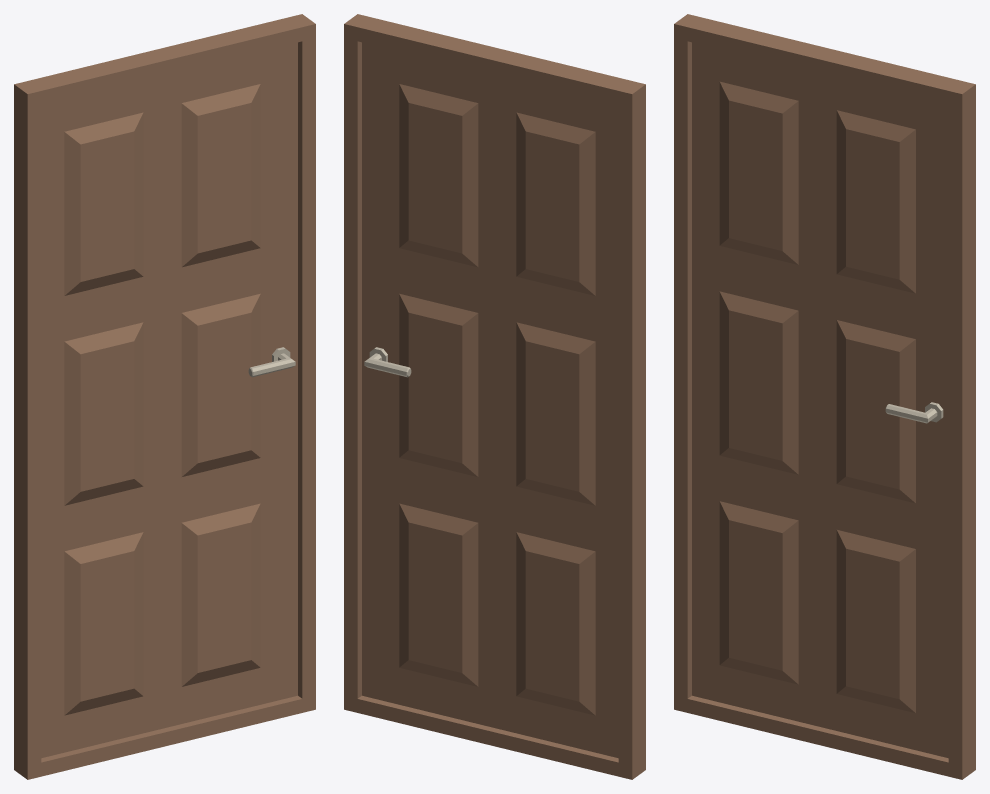
File: Mesh_Door_A05.fbx
3 views of the same model, side by side, from view 1: azimuth 30°, elevation 25°; view 2: azimuth 150°, elevation 25°; view 3: azimuth 330°, elevation 25° (orthographic).
Parts seen in each view (by area): view 1: Mesh_Door_A05; view 2: Mesh_Door_A05; view 3: Mesh_Door_A05.
Part boxes in pixels (box(x1,y1,x2,y2)): Mesh_Door_A05: box(14, 14, 315, 779); Mesh_Door_A05: box(344, 14, 645, 779); Mesh_Door_A05: box(674, 14, 975, 779).
Bounding box in the file's own units: 0.9 × 2.05 × 0.1482.
